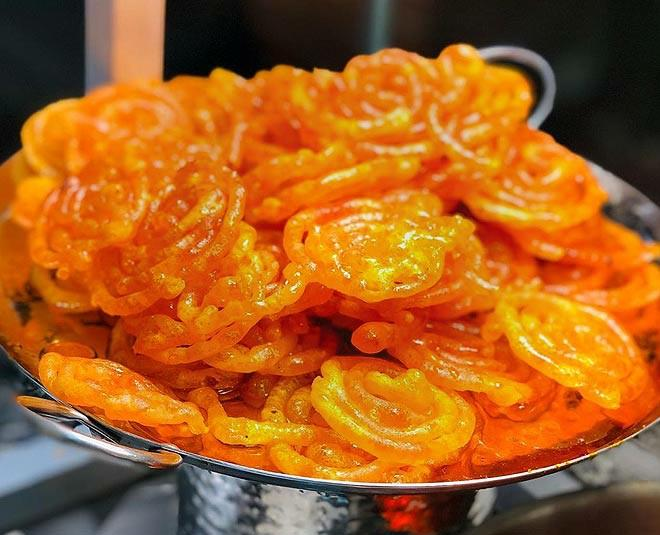Jalebi: (0, 42, 646, 465)
